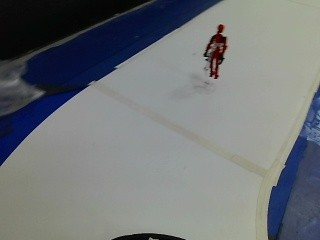pedestrian: (204, 19, 229, 79)
